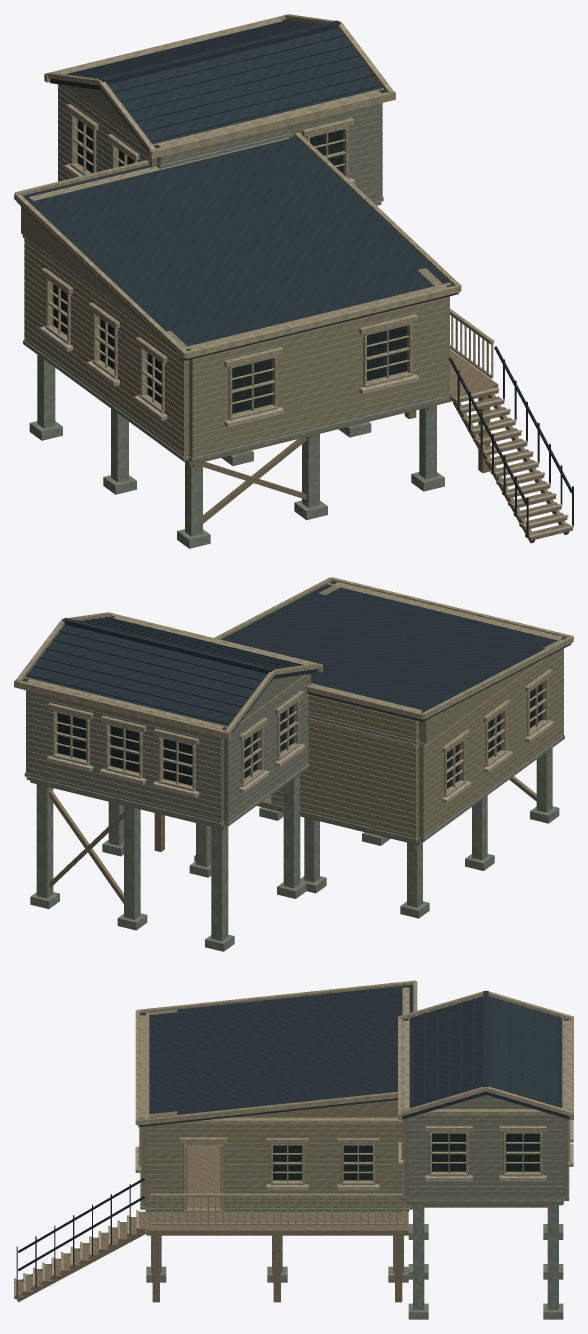
3 renders of one model, top to bottom at view 1: azimuth 30°, elevation 25°; view 2: azimuth 150°, elevation 25°; view 3: azimuth 270°, elevation 25°, orthographic. The views are drawn at different scales.
Parts seen in each view (by area): view 1: A009-07_11_Roof_Main_Split, A009-07_02_Clapboard, A009-07_11_Roof_Rear_Split, A009-07_04_Architectural_Trim, A009-07_12_Roof_Edges, A009-07_03_Window_Door_Frames, A009-07_10_Structural_Piers, A009-07_06_Glazing, A009-07_08_Stairs, A009-07_01_Wall_Shell, A009-07_09_Railings, A009-07_00_Pier_Footings (+3 smaller); view 2: A009-07_02_Clapboard, A009-07_11_Roof_Main_Split, A009-07_11_Roof_Rear_Split, A009-07_10_Structural_Piers, A009-07_04_Architectural_Trim, A009-07_12_Roof_Edges, A009-07_03_Window_Door_Frames, A009-07_06_Glazing, A009-07_01_Wall_Shell, A009-07_00_Pier_Footings, A009-07_10_Structural_Bracing, A009-07_07_Floors; view 3: A009-07_11_Roof_Main_Split, A009-07_02_Clapboard, A009-07_11_Roof_Rear_Split, A009-07_04_Architectural_Trim, A009-07_07_Floors, A009-07_12_Roof_Edges, A009-07_09_Railings, A009-07_01_Wall_Shell, A009-07_03_Window_Door_Frames, A009-07_06_Glazing, A009-07_10_Structural_Piers, A009-07_08_Stairs (+4 smaller).
Part boxes in pixels (x1,y1,x2,y2): A009-07_11_Roof_Main_Split: (16, 136, 458, 360); A009-07_02_Clapboard: (24, 50, 449, 457); A009-07_11_Roof_Rear_Split: (50, 19, 385, 152); A009-07_04_Architectural_Trim: (22, 18, 451, 462); A009-07_12_Roof_Edges: (14, 14, 461, 358); A009-07_03_Window_Door_Frames: (45, 114, 412, 420); A009-07_10_Structural_Piers: (37, 355, 436, 536); A009-07_06_Glazing: (53, 120, 406, 413); A009-07_08_Stairs: (450, 386, 573, 540); A009-07_01_Wall_Shell: (21, 85, 449, 457); A009-07_09_Railings: (449, 308, 573, 536); A009-07_00_Pier_Footings: (29, 421, 444, 548); A009-07_02_Clapboard: (26, 644, 563, 838); A009-07_11_Roof_Main_Split: (221, 581, 571, 721); A009-07_11_Roof_Rear_Split: (22, 616, 317, 734); A009-07_10_Structural_Piers: (36, 748, 552, 941); A009-07_04_Architectural_Trim: (24, 582, 564, 842); A009-07_12_Roof_Edges: (14, 577, 573, 739); A009-07_03_Window_Door_Frames: (52, 678, 548, 796); A009-07_06_Glazing: (57, 683, 542, 788); A009-07_01_Wall_Shell: (26, 585, 559, 838); A009-07_00_Pier_Footings: (30, 806, 559, 951); A009-07_10_Structural_Bracing: (49, 776, 536, 903); A009-07_07_Floors: (30, 780, 423, 845); A009-07_11_Roof_Main_Split: (138, 984, 413, 1127); A009-07_02_Clapboard: (141, 1006, 568, 1208); A009-07_11_Roof_Rear_Split: (402, 991, 569, 1119); A009-07_04_Architectural_Trim: (135, 987, 573, 1211); A009-07_07_Floors: (146, 1145, 563, 1235); A009-07_12_Roof_Edges: (135, 980, 573, 1125); A009-07_09_Railings: (16, 1178, 405, 1297); A009-07_01_Wall_Shell: (142, 1009, 567, 1207); A009-07_03_Window_Door_Frames: (138, 1119, 570, 1212); A009-07_06_Glazing: (273, 1133, 539, 1180); A009-07_10_Structural_Piers: (151, 1205, 558, 1310); A009-07_08_Stairs: (14, 1210, 146, 1298).
Bounding box in the file's own units: 10.45 × 7.82 × 16.64.
Materials: 11 (11 with a texture image).
